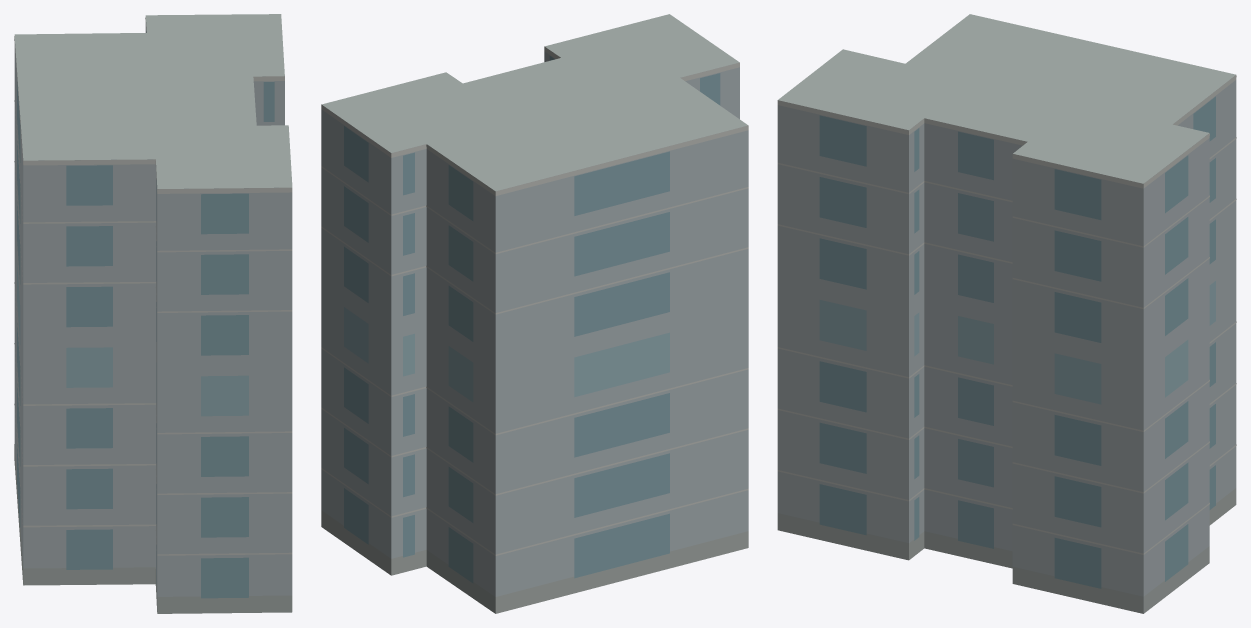
File: survey-upis-32515562.glb
3 views of the same model, side by side, from view 1: azimuth 30°, elevation 25°; view 2: azimuth 150°, elevation 25°; view 3: azimuth 270°, elevation 25° (orthographic).
Visible parts, largest first — view 1: survey-upis-32515562.tmp; view 2: survey-upis-32515562.tmp; view 3: survey-upis-32515562.tmp.
Part boxes in pixels (left/top/right/bottom): survey-upis-32515562.tmp: left=14, top=14, right=292, bottom=613; survey-upis-32515562.tmp: left=321, top=14, right=748, bottom=613; survey-upis-32515562.tmp: left=777, top=14, right=1236, bottom=613.
Bounding box in the file's own units: 18.05 × 21.3 × 20.61.
